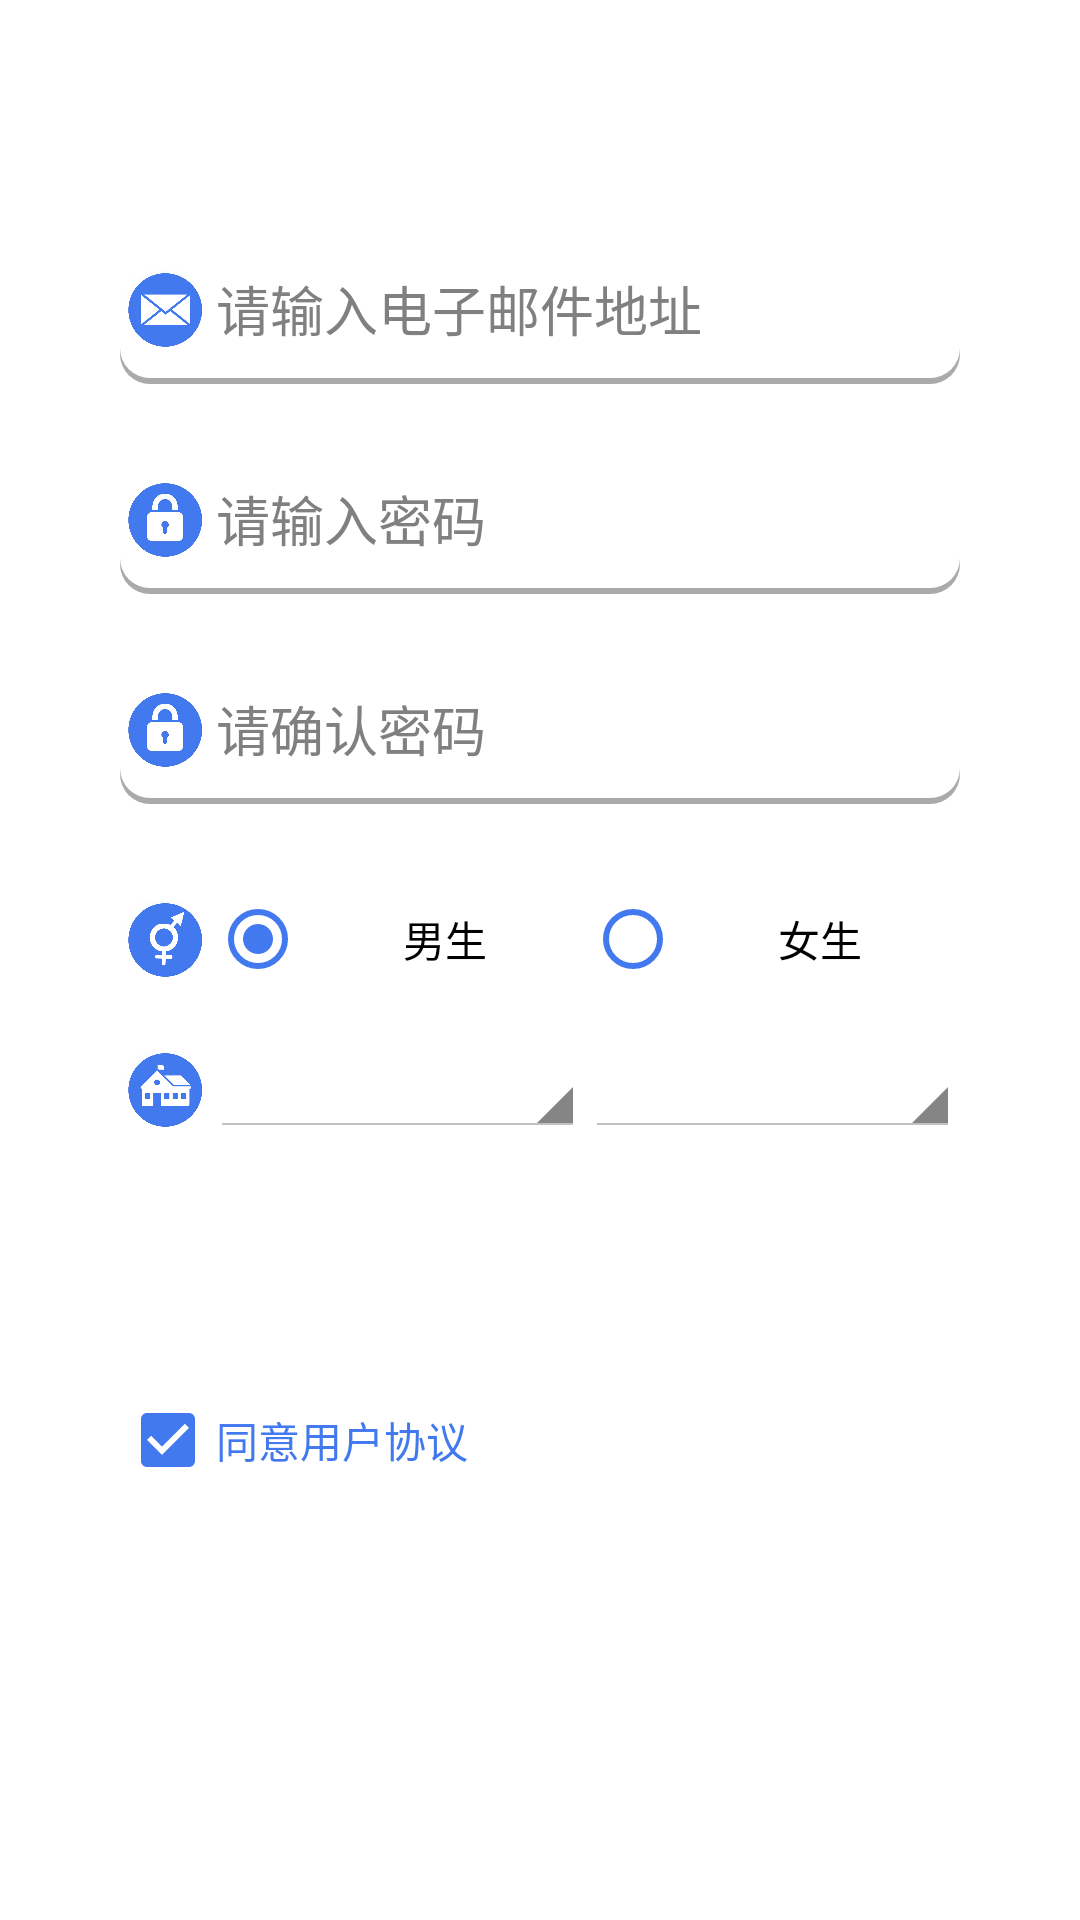

Icons on this 1080×1920 Android screen, each with its box as [x1,y1,x2,y2]:
email: [128,273,202,347]
pass: [128,483,202,557], [128,693,202,767]
school: [128,1053,202,1127]
sex: [128,903,202,977]
